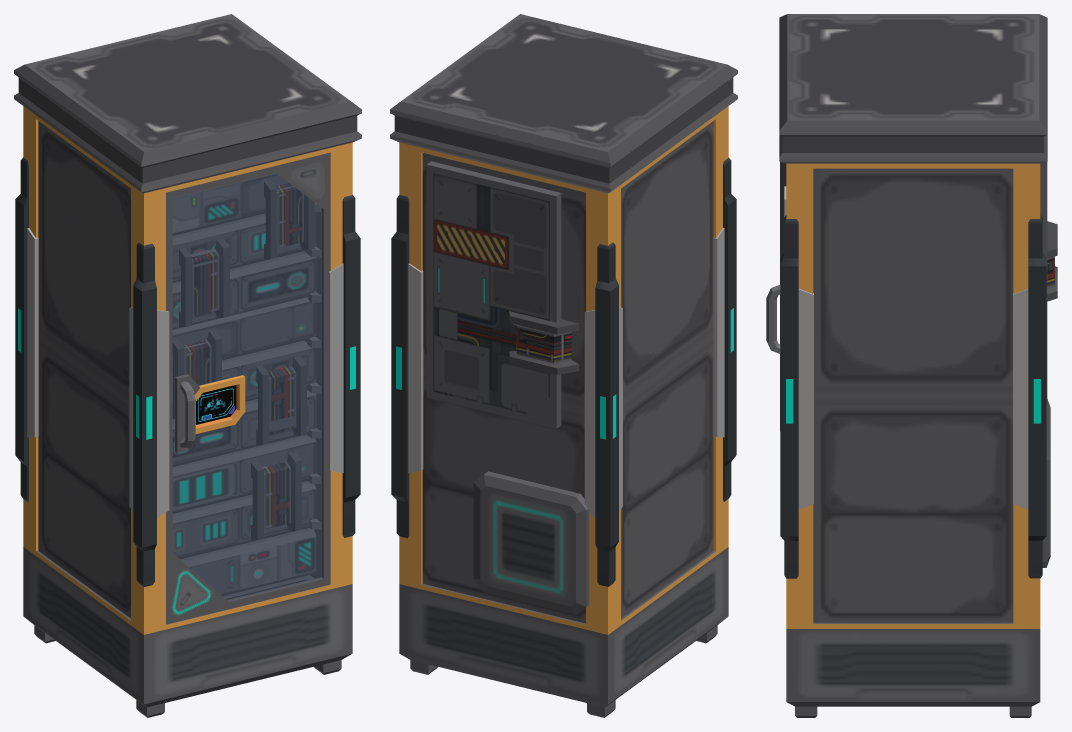
File: SM_Prop_Server_01.fbx
3 views of the same model, side by side, from view 1: azimuth 30°, elevation 25°; view 2: azimuth 150°, elevation 25°; view 3: azimuth 270°, elevation 25° (orthographic). The views are drawn at different scales.
Parts seen in each view (by area): view 1: SM_Prop_Server_01, SM_Prop_Server_01_Glass_01; view 2: SM_Prop_Server_01; view 3: SM_Prop_Server_01.
Boxes of the visible parts, box(x1,y1,x2,y2) form: SM_Prop_Server_01: box(14, 14, 361, 717); SM_Prop_Server_01_Glass_01: box(172, 173, 322, 600); SM_Prop_Server_01: box(390, 14, 737, 717); SM_Prop_Server_01: box(766, 14, 1057, 717).
Size of the model in its own units: 92.25 by 228 by 100.
